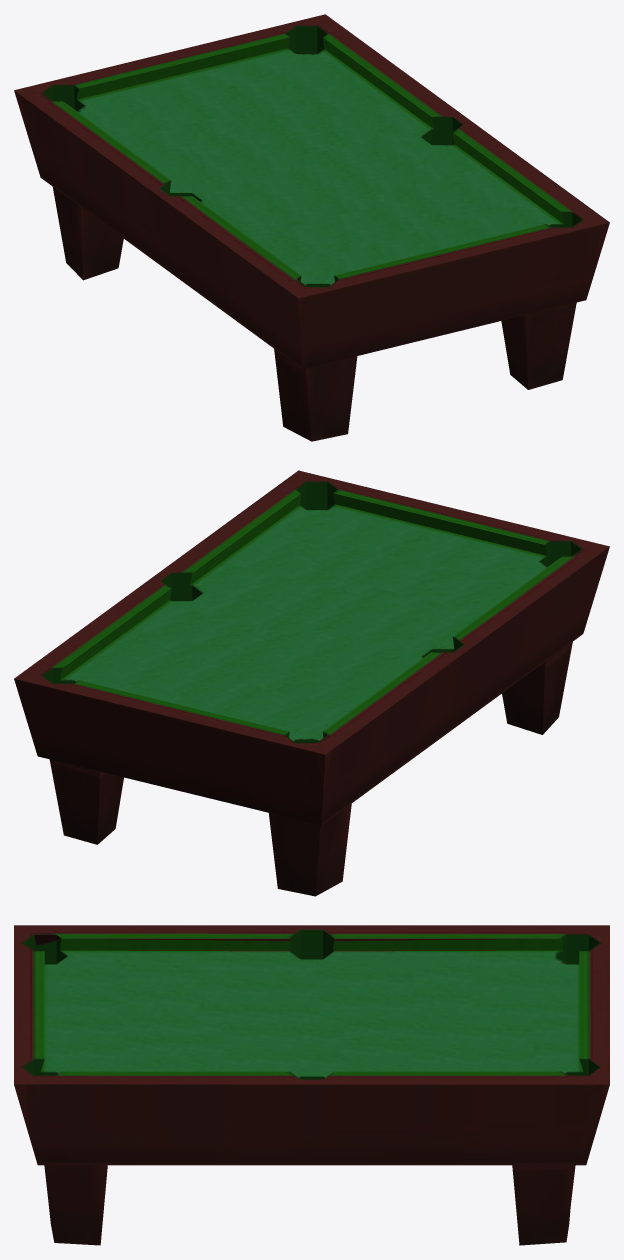
The model's file is pool.obj.
3 renders of one model, top to bottom at view 1: azimuth 30°, elevation 25°; view 2: azimuth 150°, elevation 25°; view 3: azimuth 270°, elevation 25°, orthographic. The views are drawn at different scales.
Visible parts, largest first — view 1: Cube; view 2: Cube; view 3: Cube.
Part boxes in pixels (x1,y1,x2,y2): Cube: [14, 14, 609, 441]; Cube: [14, 470, 609, 896]; Cube: [14, 925, 609, 1245].
Size of the model in its own units: 4 by 2.02 by 6.33.
Materials: 1 (1 with a texture image).
